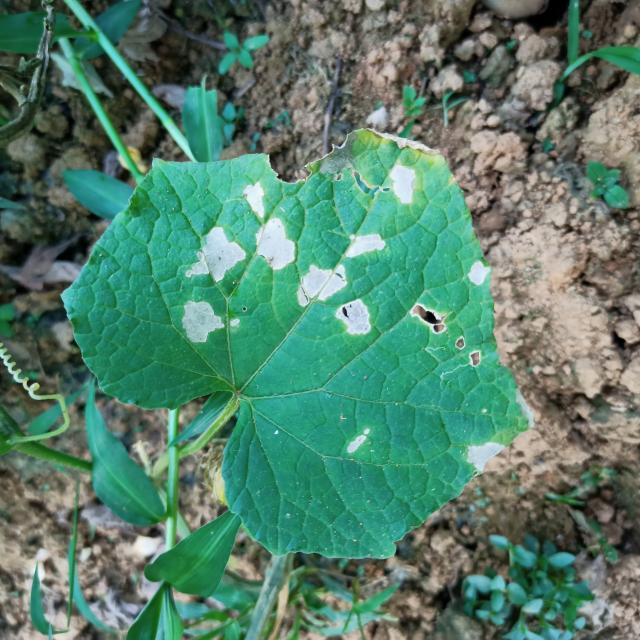disease_cucumber: (299, 263, 370, 336), (243, 182, 300, 269), (409, 304, 482, 369), (186, 226, 245, 285), (181, 299, 242, 345), (388, 163, 417, 205), (466, 442, 506, 471), (346, 233, 386, 260), (348, 428, 371, 454), (468, 261, 489, 288)
